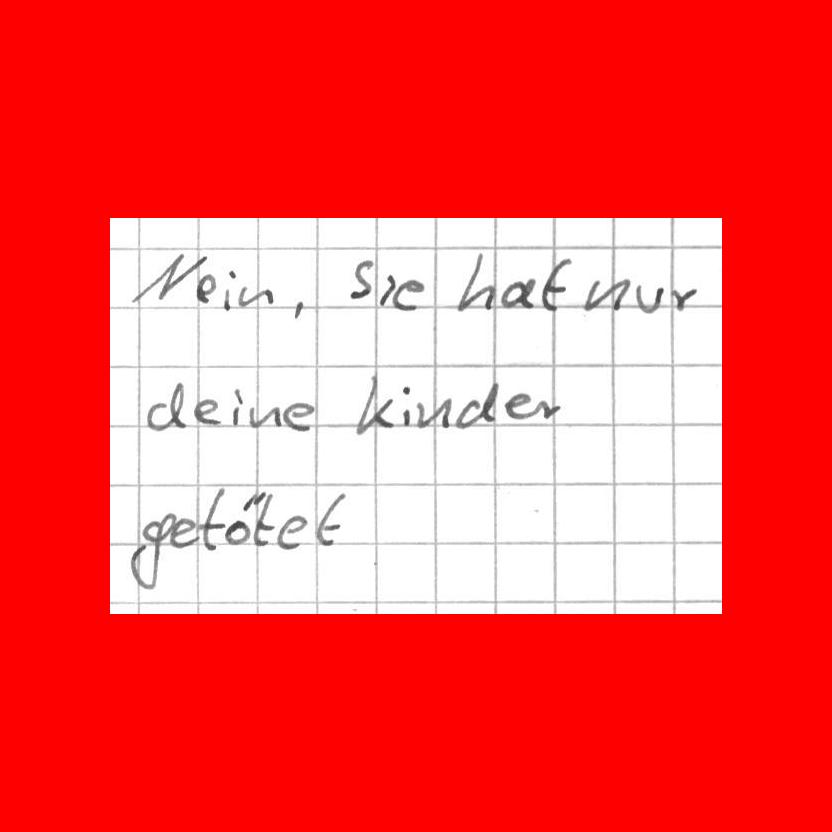Char: (129, 508, 176, 592), (131, 252, 201, 304), (454, 248, 495, 315), (354, 378, 394, 436), (454, 381, 498, 431), (145, 382, 186, 429), (313, 491, 347, 546), (581, 277, 629, 314), (224, 492, 255, 547), (539, 258, 572, 309), (200, 487, 224, 551), (415, 395, 454, 431), (251, 490, 275, 547), (501, 276, 537, 311), (347, 258, 375, 302), (275, 514, 308, 551), (283, 399, 315, 434), (394, 277, 425, 312), (168, 516, 198, 550), (238, 283, 276, 308), (634, 282, 663, 314), (504, 392, 534, 422), (248, 403, 280, 430), (668, 283, 696, 313), (194, 272, 218, 306), (192, 396, 219, 426), (378, 273, 397, 308), (229, 387, 245, 426), (534, 398, 562, 420), (223, 270, 237, 311), (399, 385, 413, 426), (287, 296, 306, 320)
